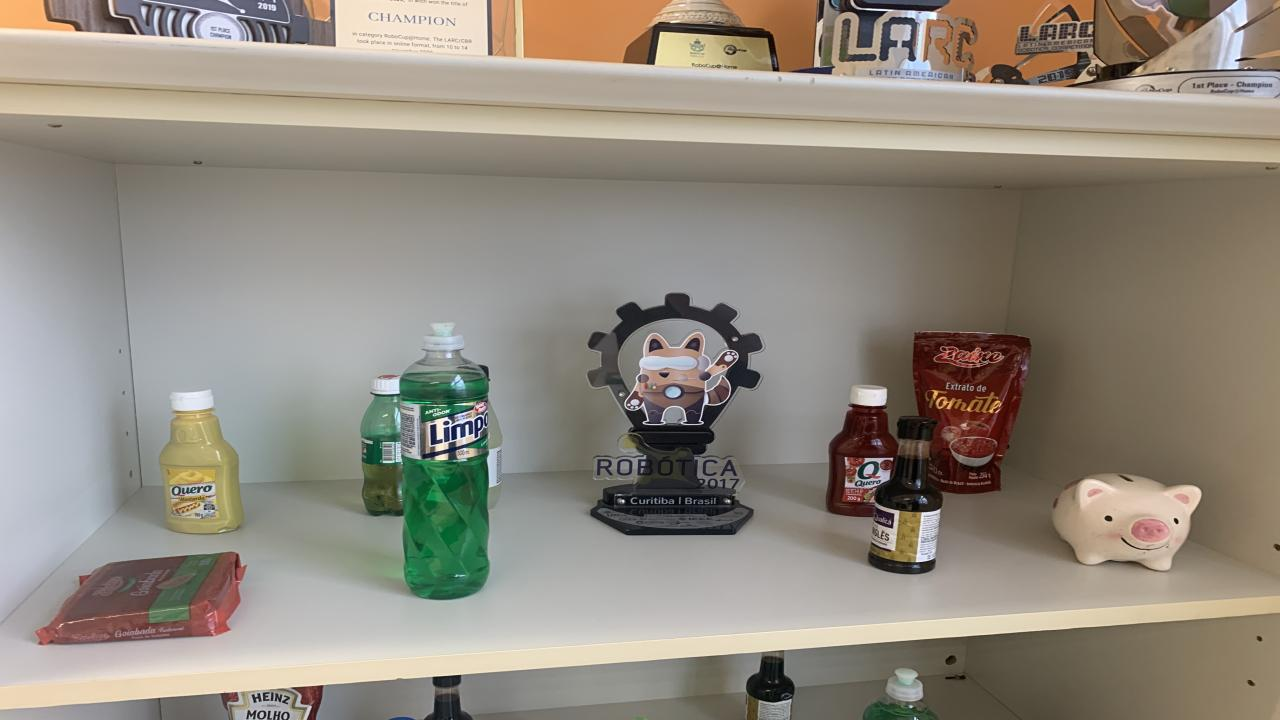Detergent-Cleanup_Items: (400, 324, 490, 600), (862, 668, 938, 720)
English_Sauce-Pantry_Items: (868, 416, 942, 574), (745, 651, 795, 720), (425, 675, 472, 720)
Guarana-Drinks: (360, 377, 402, 516)
Guava-Snacks: (38, 551, 245, 645)
Ketchup-Pantry_Items: (825, 384, 898, 516)
Mustard-Pantry_Items: (160, 390, 242, 534)
Pig_Safe-Miscellaneous: (1052, 472, 1200, 570)
Soda-Drinks: (488, 401, 502, 508), (480, 366, 490, 379)
Tomato_Sauce-Pantry_Items: (912, 332, 1030, 493), (220, 686, 322, 720)
Trophy-Miscellaneous: (588, 292, 762, 534)
